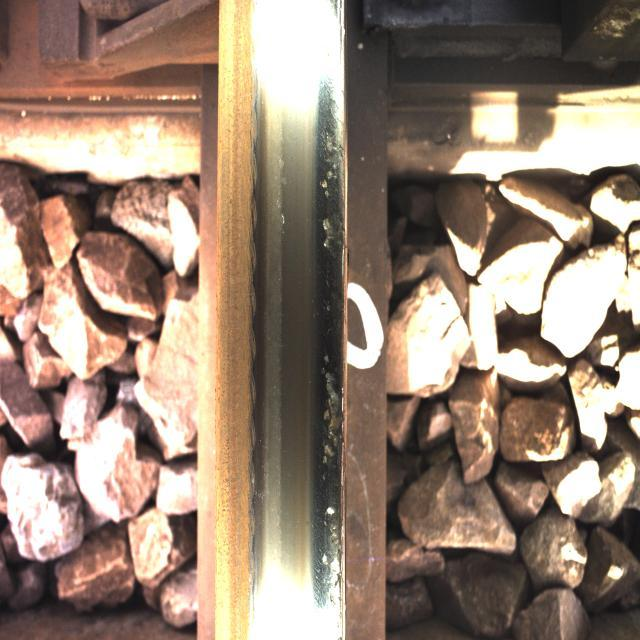scar: (249, 54, 349, 615)
